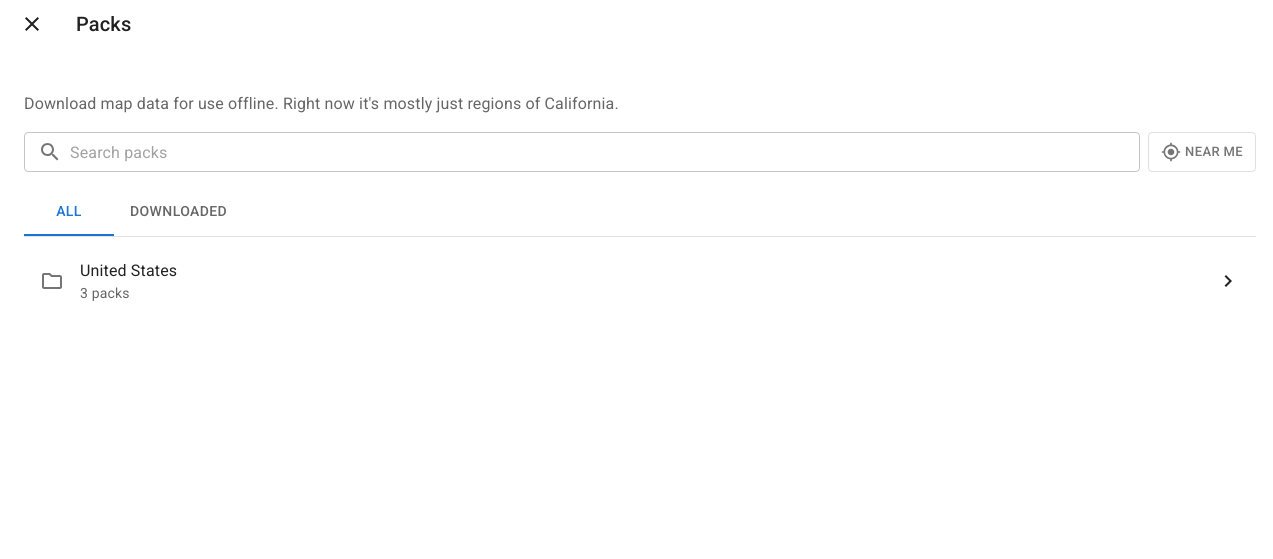
Test: Packs › when packs are nested › opens a pack's own pack and the packs inside it, and goes back
Click the text "United States" at (129, 270), box x1=80 y1=261 x2=177 y2=280
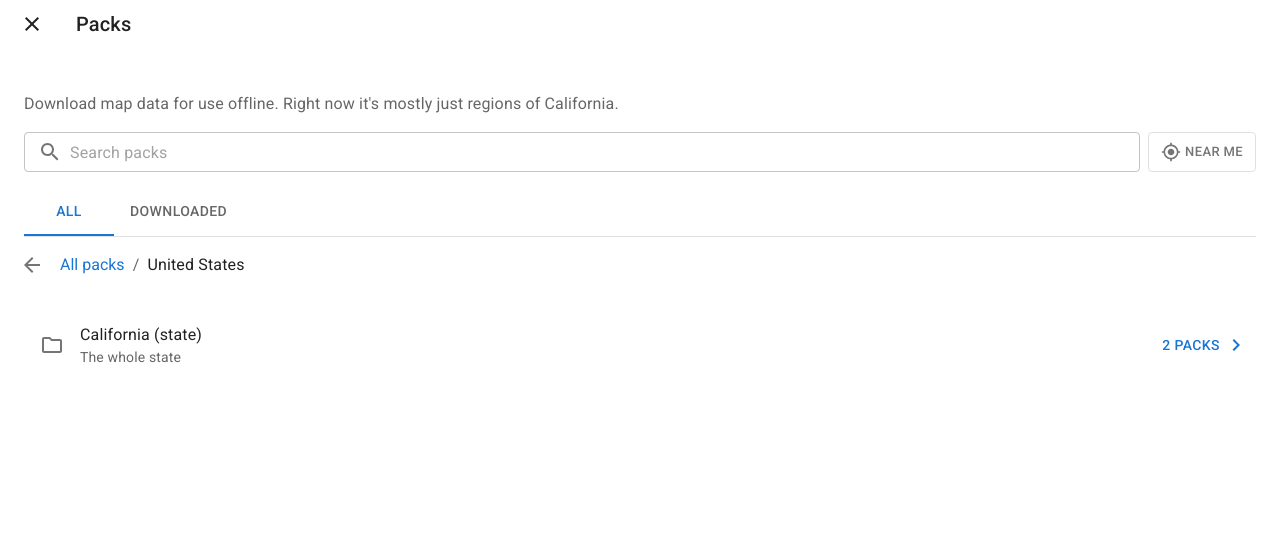
Click the button with aria-label "Show packs within California (state)" at (1203, 345), box x1=1154 y1=325 x2=1252 y2=365
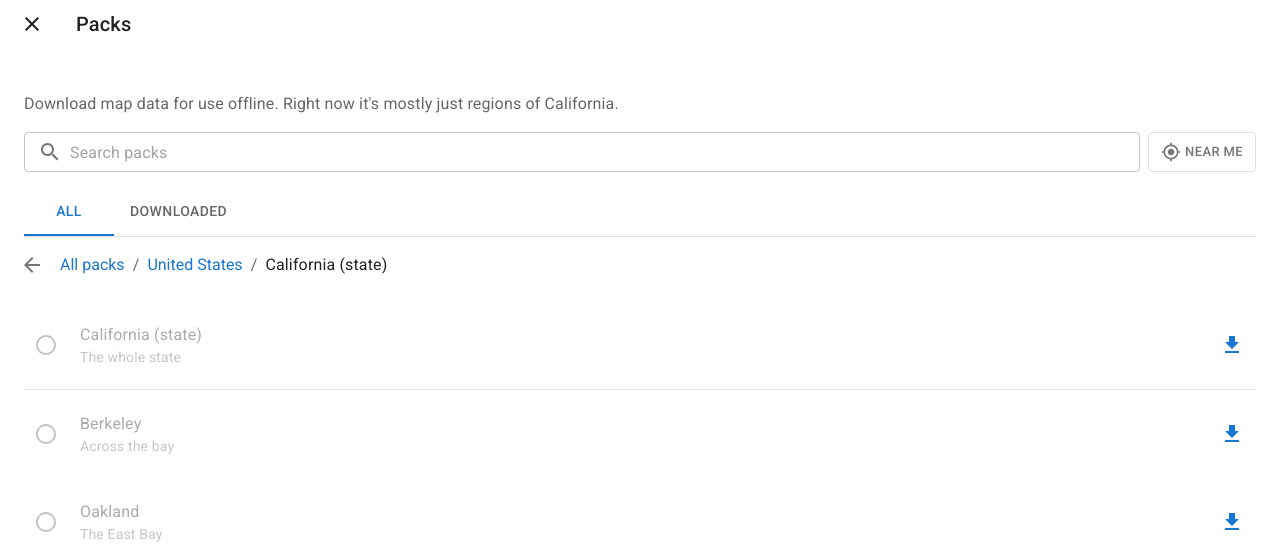
expect the text "Oakland" is shown: met, box x1=80 y1=502 x2=139 y2=521
expect the text "Berkeley" is shown: met, box x1=80 y1=414 x2=141 y2=433
expect the 1st button named "download" is shown: met, box x1=1212 y1=325 x2=1252 y2=365
Click the button named "Back" at (32, 265), box x1=12 y1=245 x2=52 y2=285
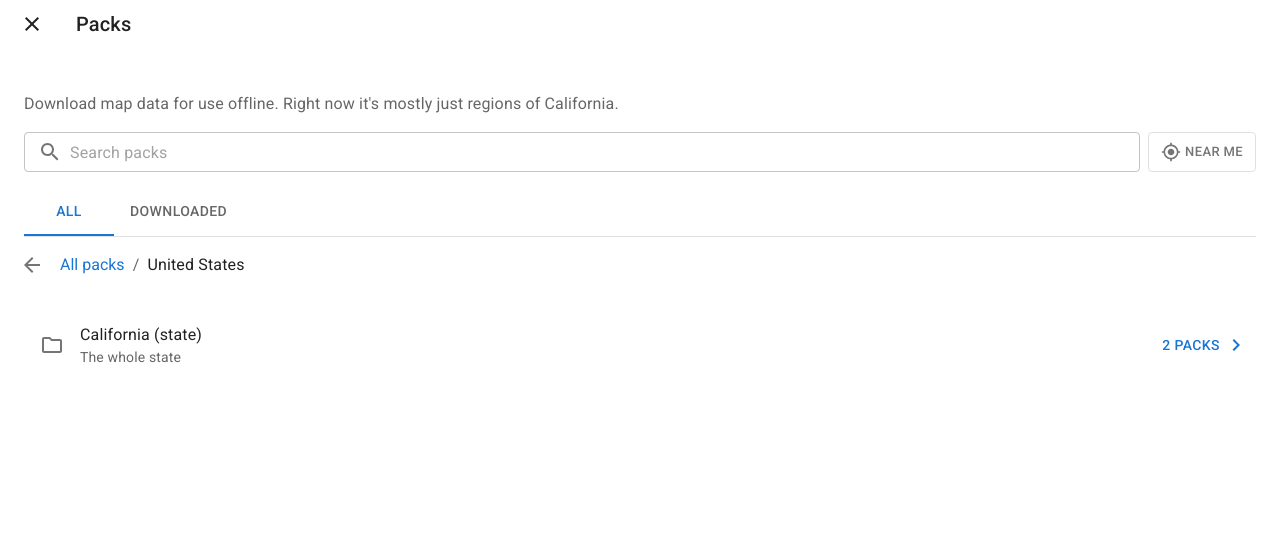
expect the text "California (state)" is shown: met, box x1=80 y1=325 x2=202 y2=344
expect the button "Oakland" is gone: met
Click the button named "Back" at (32, 265), box x1=12 y1=245 x2=52 y2=285
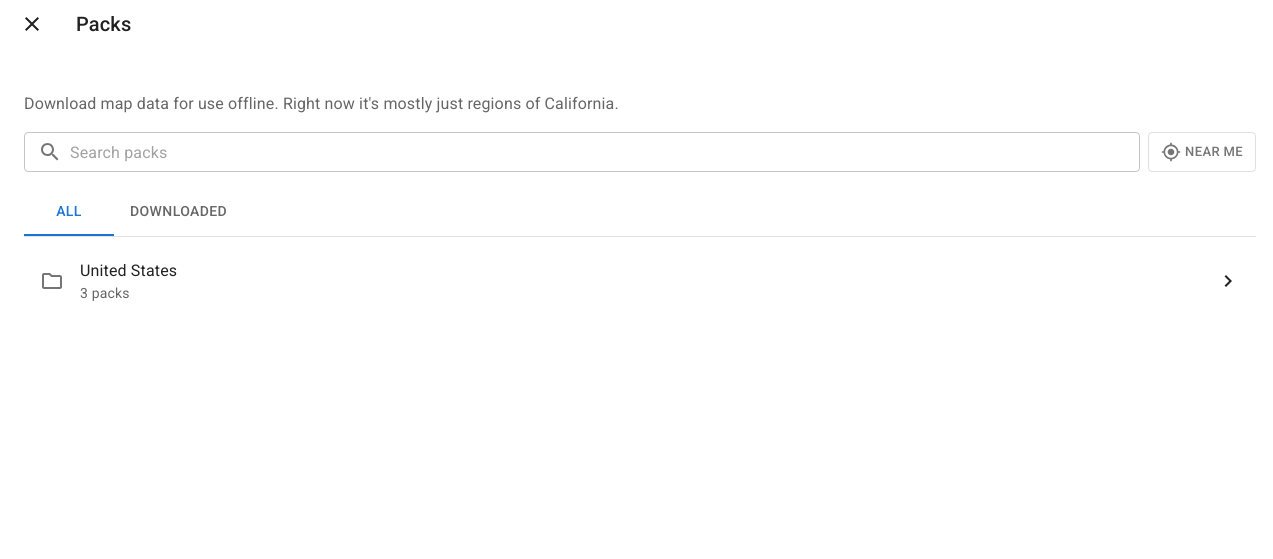
expect the text "United States" is shown: met, box x1=80 y1=261 x2=177 y2=280
